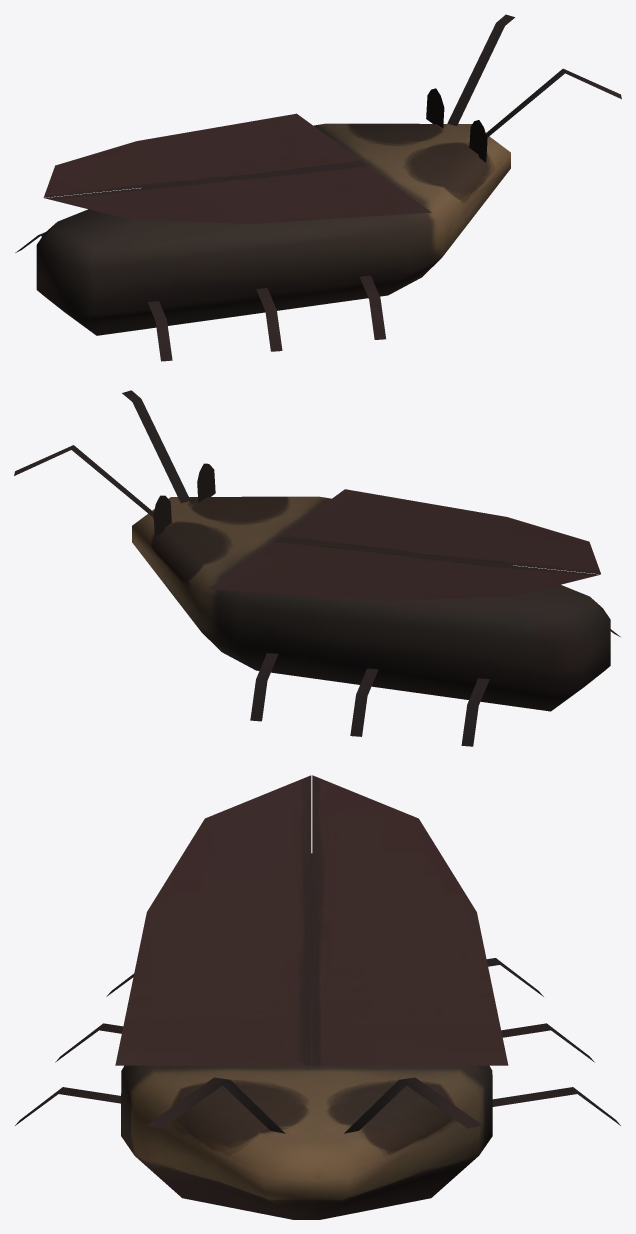
Rendered from CucarachaT.fbx.
3 views of the same model, one above another, from view 1: azimuth 30°, elevation 25°; view 2: azimuth 150°, elevation 25°; view 3: azimuth 270°, elevation 25° (orthographic). The views are drawn at different scales.
Visible parts, largest first — view 1: cucaracha; view 2: cucaracha; view 3: cucaracha.
Part boxes in pixels (box(x1,y1,x2,y2)): cucaracha: box(15, 14, 621, 361); cucaracha: box(14, 390, 620, 746); cucaracha: box(15, 775, 620, 1219).
Bounding box in the file's own units: 24.24 × 7.23 × 16.71.
Materials: 1 (1 with a texture image).
